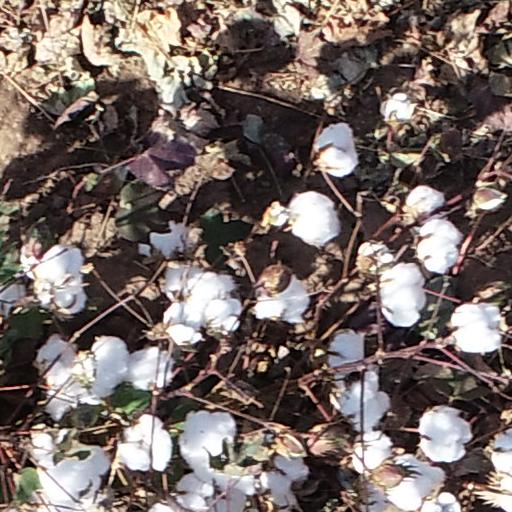Boll: (37, 452, 107, 508), (179, 411, 235, 477), (385, 455, 444, 509), (39, 339, 90, 396), (121, 415, 170, 471), (419, 407, 466, 462), (257, 271, 307, 322), (449, 303, 501, 352), (290, 194, 340, 244), (84, 339, 131, 392), (381, 267, 423, 325), (260, 450, 310, 496), (199, 278, 243, 329), (340, 379, 386, 427), (419, 219, 460, 269), (316, 127, 359, 172), (208, 470, 252, 512), (131, 350, 174, 389), (175, 473, 218, 510), (26, 428, 67, 465), (24, 243, 67, 276), (355, 433, 391, 472), (329, 332, 363, 373), (167, 306, 202, 343), (49, 277, 84, 312), (148, 228, 191, 255), (360, 240, 393, 273), (404, 188, 440, 218), (165, 267, 196, 298), (494, 429, 512, 469), (425, 493, 460, 512)
